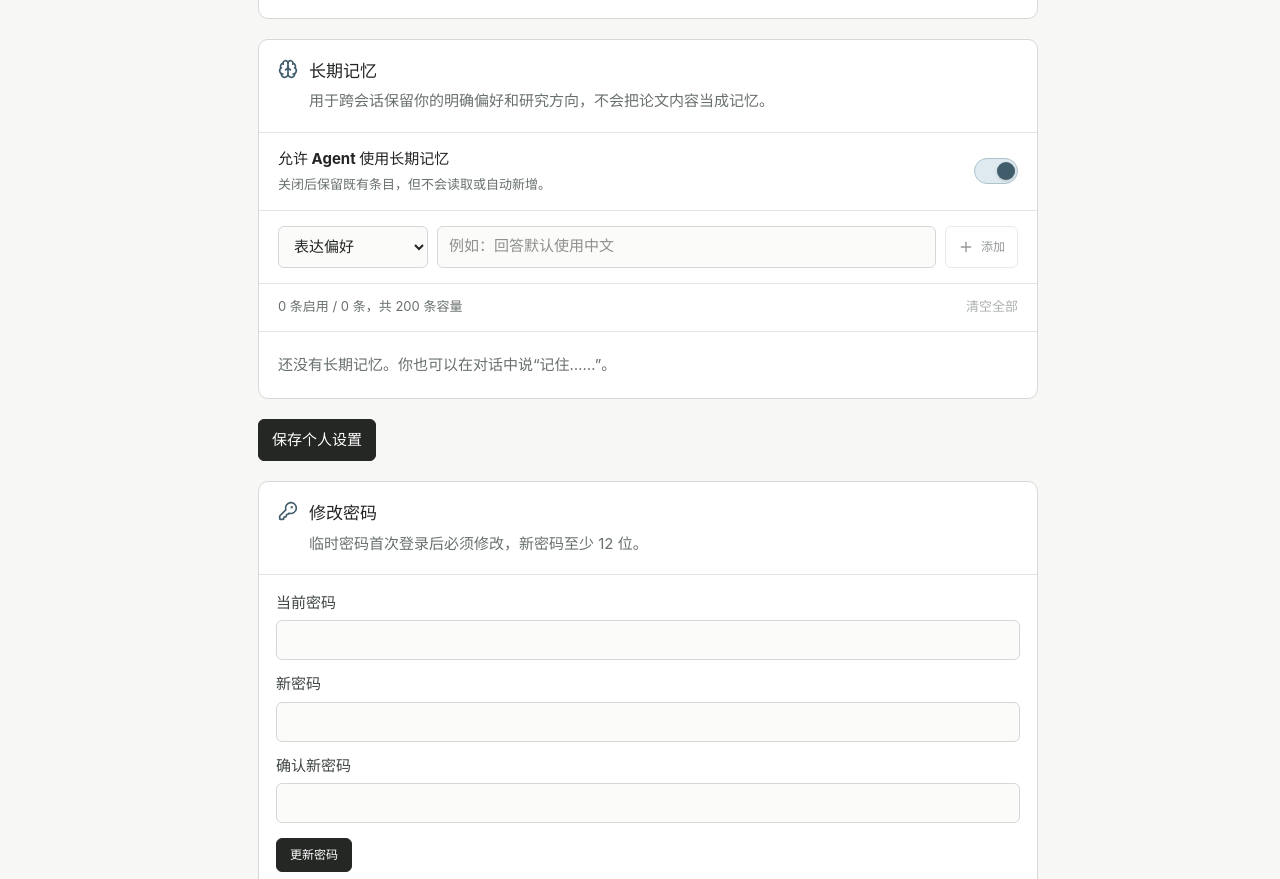
Test case: SettingsView 真实偏好 › 展示对象 detail 中的中文失败原因
(page scrolled)
Click the button "保存个人设置" at point(317, 440), box x1=258 y1=419 x2=376 y2=461
(page scrolled)
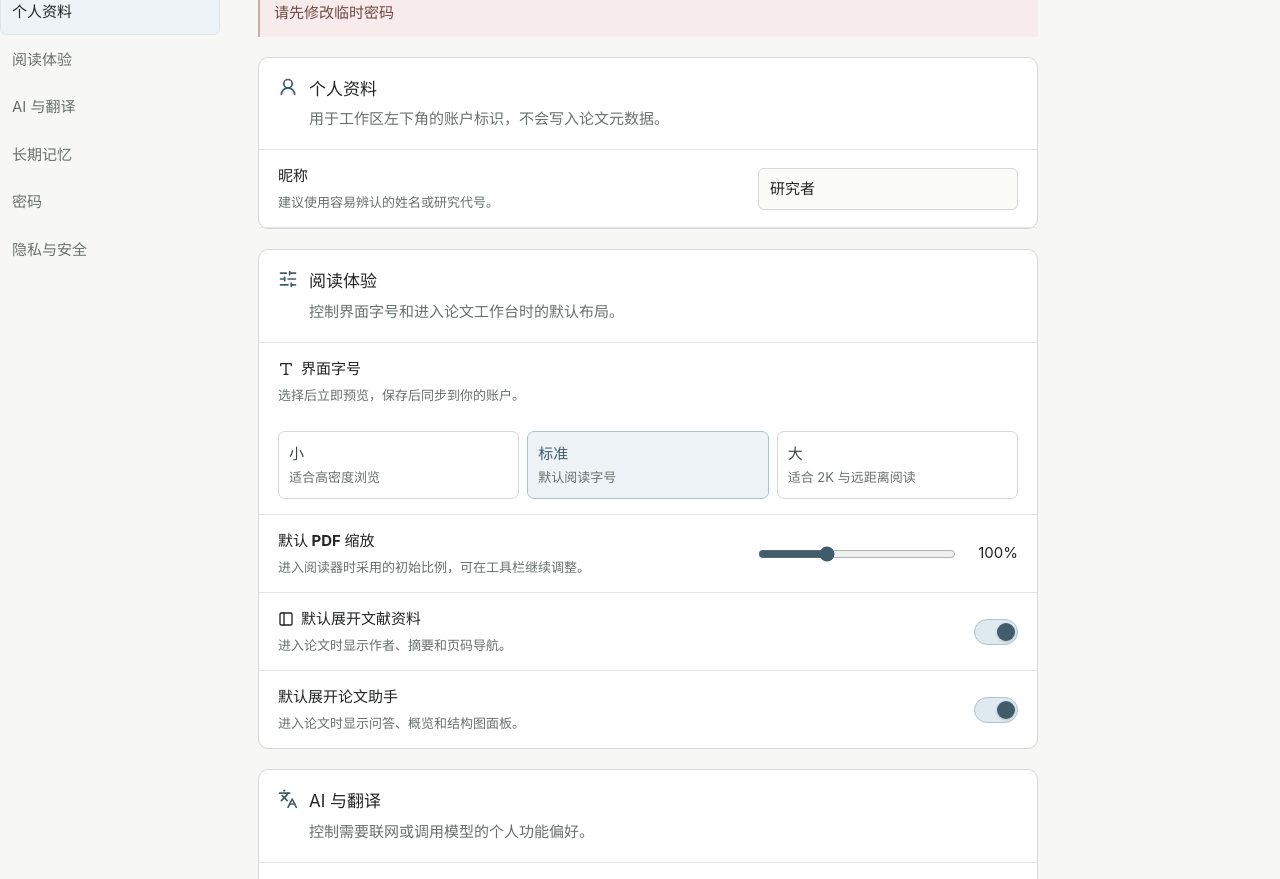
Now the message reads "请先修改临时密码", box x1=274 y1=3 x2=394 y2=22
